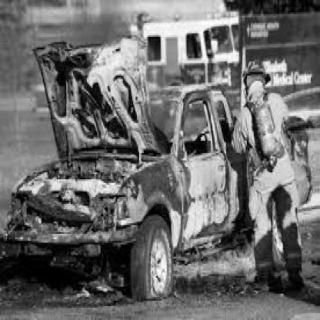Fire: (174, 249, 266, 279)
